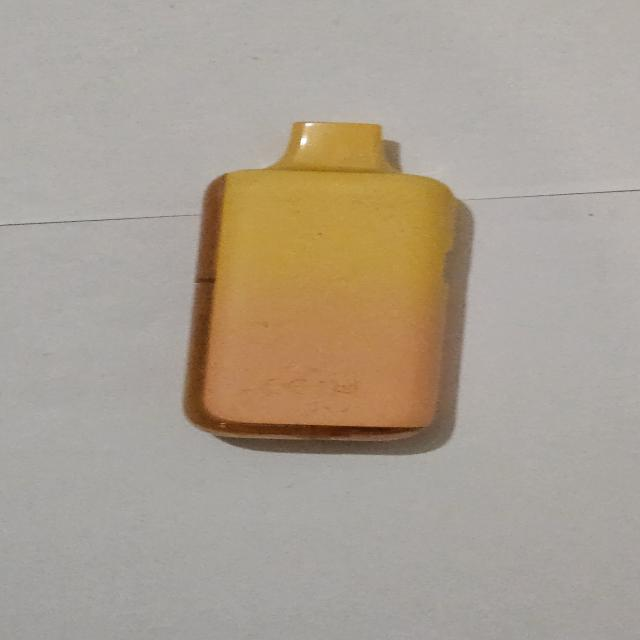Hazard: (184, 120, 468, 441)
